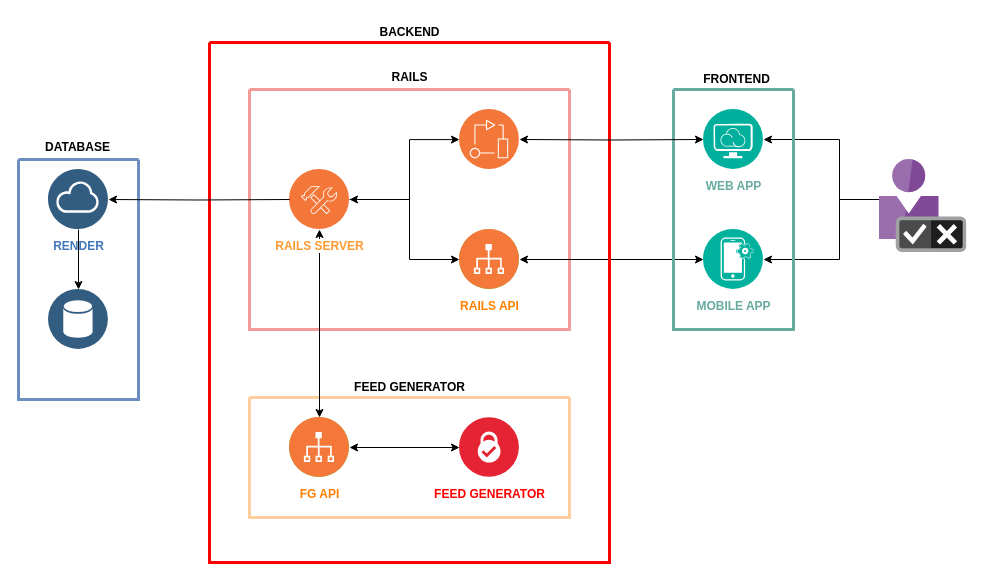
The diagram is 984 pixels wide and 581 high, and some of its shapes have lost their labels. The box of each missing label's shape, as (x1, y1, x2, y2) in pixels:
POSTGRES DB: (48, 289, 108, 349)
RAILS CONTROLLER: (459, 109, 519, 169)
USER: (879, 159, 966, 252)
